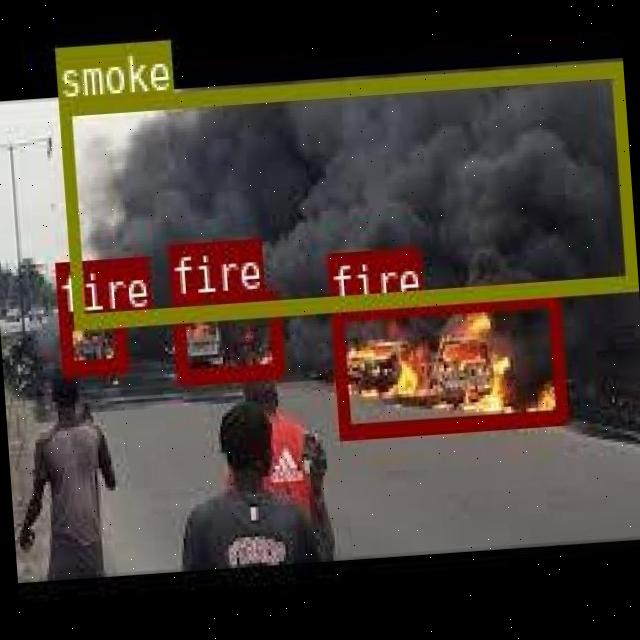fire: (329, 289, 564, 437), (169, 290, 282, 380), (57, 309, 125, 373)
smoke: (57, 58, 633, 324)
